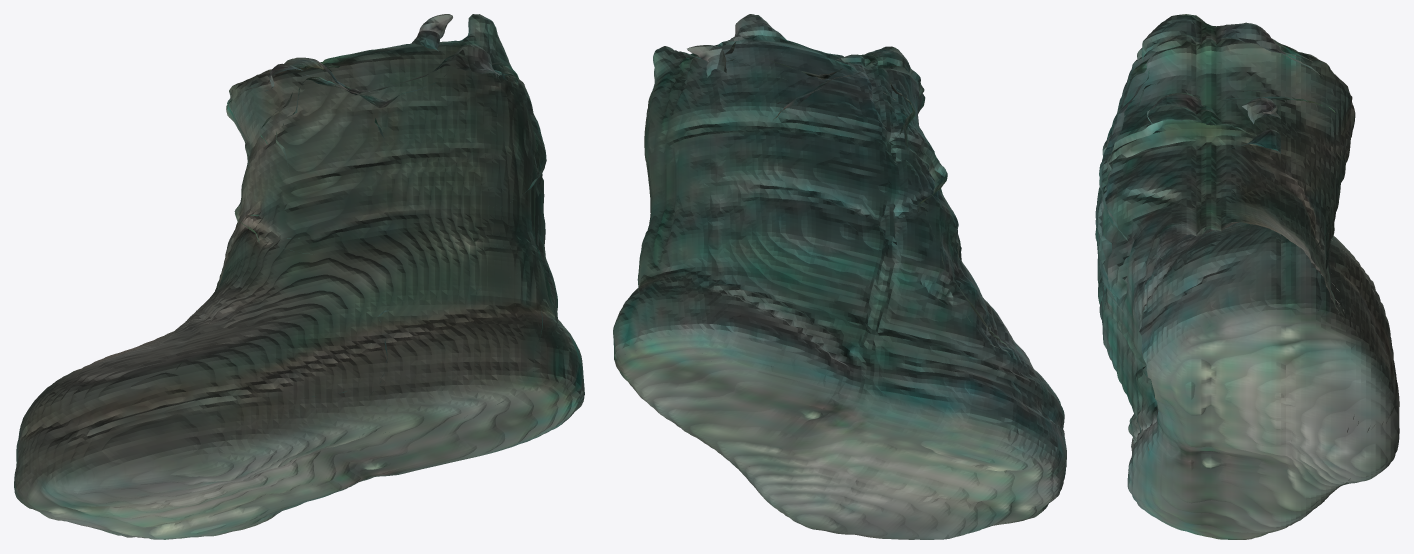
3 views of the same model, side by side, from view 1: azimuth 30°, elevation 25°; view 2: azimuth 150°, elevation 25°; view 3: azimuth 270°, elevation 25° (orthographic). The views are drawn at different scales.
Parts seen in each view (by area): view 1: geometry_0; view 2: geometry_0; view 3: geometry_0.
Boxes of the visible parts, x1,y1,x2,y2 form: geometry_0: (14,14,584,539); geometry_0: (613,14,1066,539); geometry_0: (1095,14,1399,539).
Bounding box in the file's own units: 1.6 × 1.35 × 0.815.
